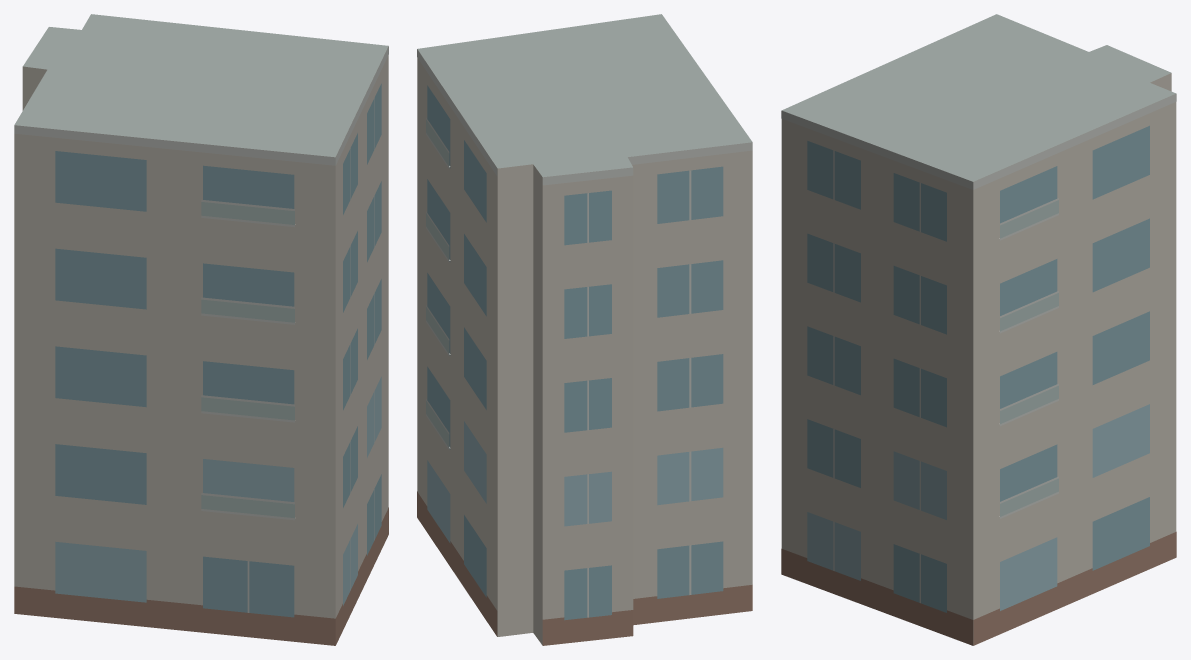
Rendered from survey-upis-32884126.glb.
3 renders of one model, left to right at view 1: azimuth 30°, elevation 25°; view 2: azimuth 150°, elevation 25°; view 3: azimuth 270°, elevation 25°, orthographic. The views are drawn at different scales.
Visible parts, largest first — view 1: survey-upis-32884126.tmp; view 2: survey-upis-32884126.tmp; view 3: survey-upis-32884126.tmp.
Boxes of the visible parts, left/top/right/bottom form: survey-upis-32884126.tmp: left=14, top=14, right=388, bottom=645; survey-upis-32884126.tmp: left=417, top=14, right=752, bottom=645; survey-upis-32884126.tmp: left=781, top=14, right=1176, bottom=645.
Bounding box in the file's own units: 10.79 × 13.9 × 10.73.
